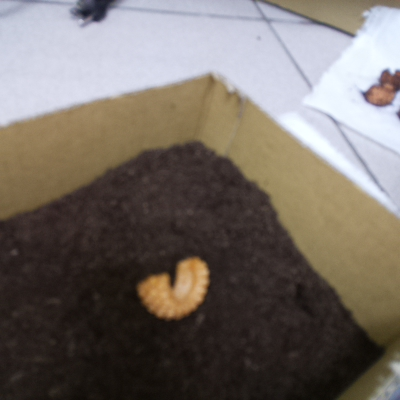eggs: (126, 252, 213, 323)
